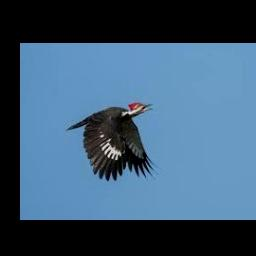Woodpecker: (66, 102, 158, 182)
